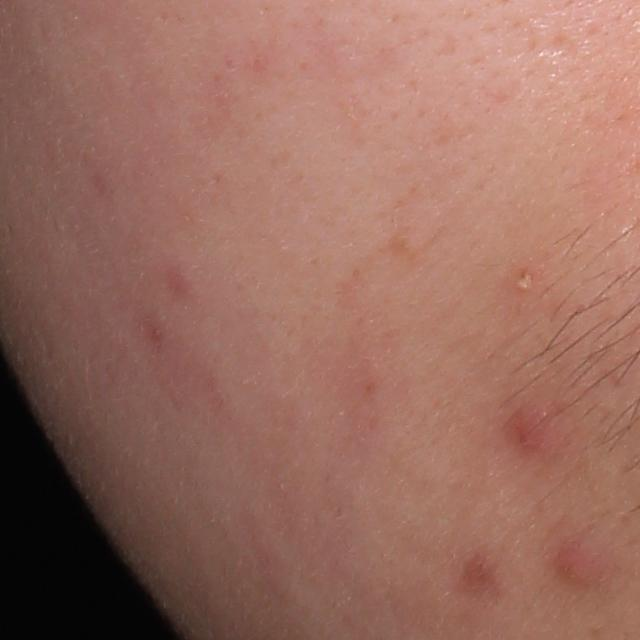papule: (506, 405, 559, 458), (553, 548, 614, 590)
